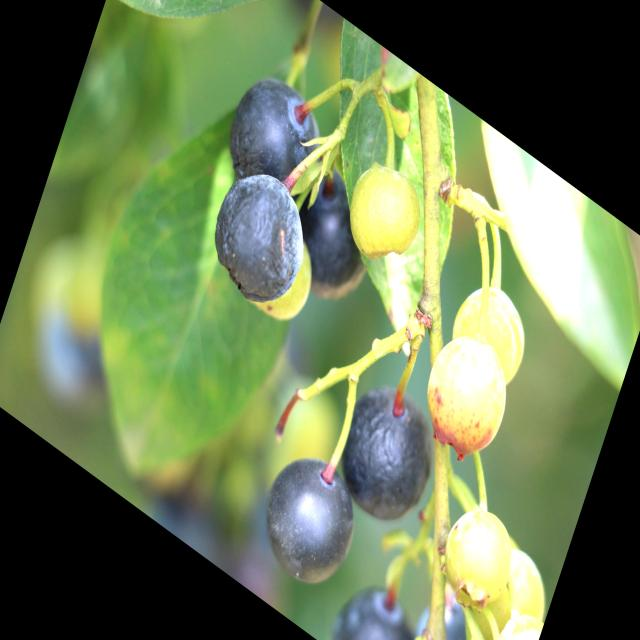blueberry: (322, 364, 448, 545), (195, 146, 320, 326), (250, 433, 374, 609), (213, 42, 334, 222), (275, 144, 391, 326), (326, 558, 429, 640), (405, 583, 489, 640), (114, 0, 203, 17)
blueberry-halfripe: (412, 312, 522, 473)
blueberry-unripe: (427, 482, 525, 624), (447, 266, 540, 389), (341, 146, 426, 276), (470, 536, 554, 640), (480, 599, 542, 640)
